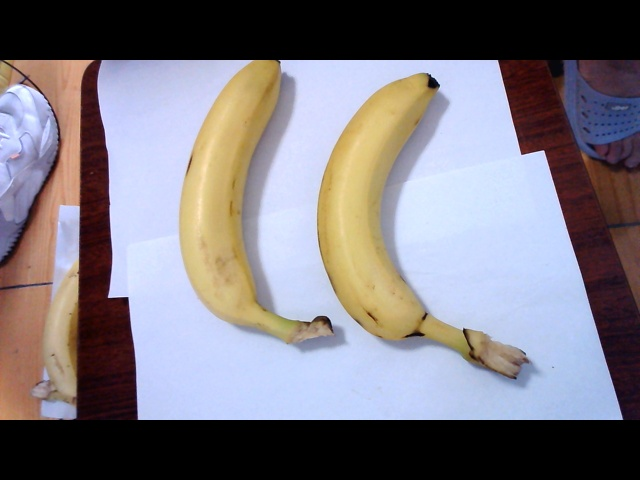banana: (321, 59, 470, 359), (183, 57, 316, 356)
